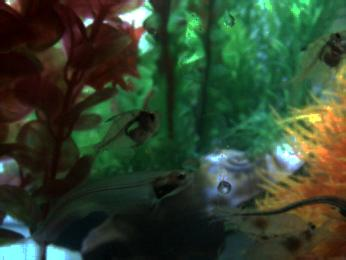X-ray fish: (82, 108, 164, 162), (280, 28, 346, 95)
glassfish: (15, 168, 196, 259), (208, 194, 346, 224)
siberian prawn: (235, 216, 336, 260), (210, 203, 311, 236)
